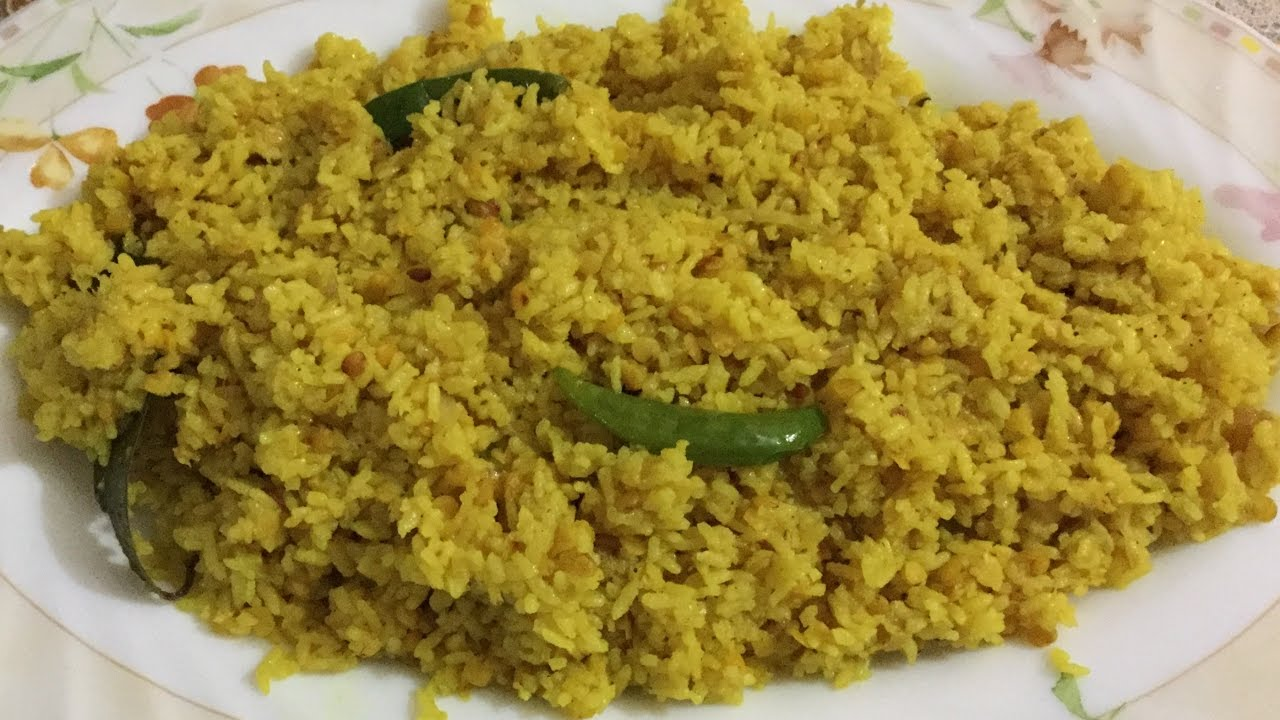khichuri: (20, 39, 1272, 713)
